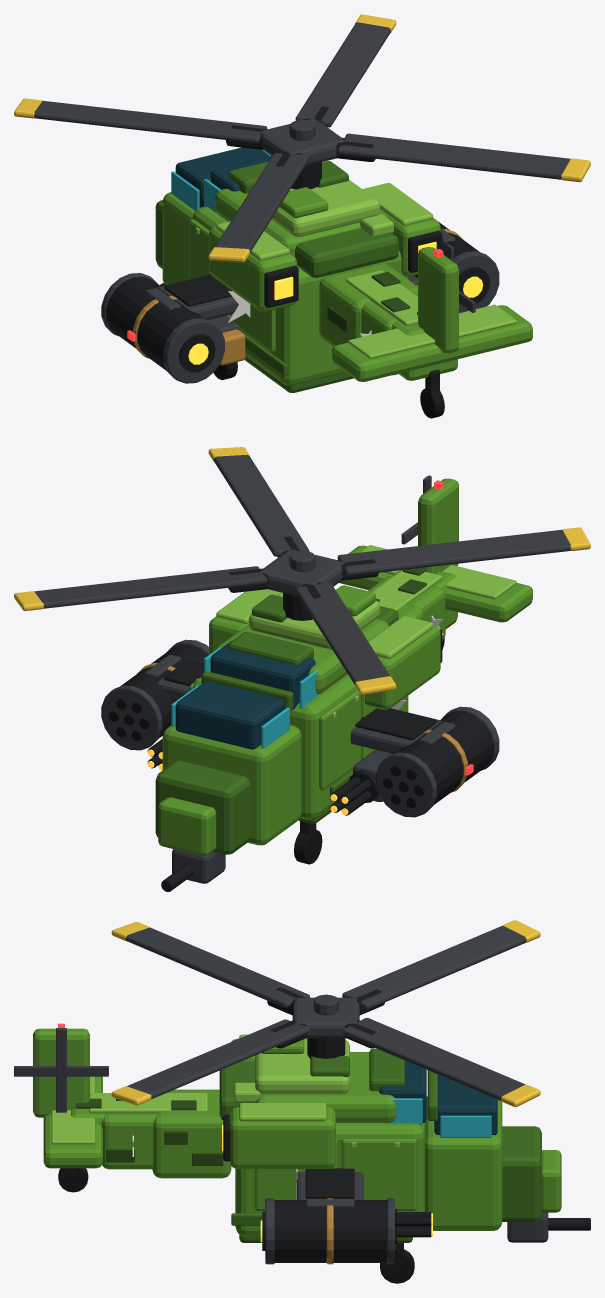
Rendered from helicopter.glb.
3 views of the same model, one above another, from view 1: azimuth 30°, elevation 25°; view 2: azimuth 150°, elevation 25°; view 3: azimuth 270°, elevation 25° (orthographic). The views are drawn at different scales.
Parts seen in each view (by area): view 1: HeliBody, HeliRotor; view 2: HeliBody, HeliRotor; view 3: HeliBody, HeliRotor, HeliTailRotor.
Part boxes in pixels (x1=…): HeliBody: x1=101, y1=118, x2=532, y2=418; HeliRotor: x1=14, y1=14, x2=590, y2=262; HeliBody: x1=101, y1=478, x2=532, y2=891; HeliRotor: x1=14, y1=447, x2=590, y2=695; HeliBody: x1=33, y1=997, x2=590, y2=1283; HeliRotor: x1=111, y1=920, x2=540, y2=1107; HeliTailRotor: x1=14, y1=1028, x2=108, y2=1112.
Bounding box in the file's own units: 5.43 × 3.66 × 7.3.
